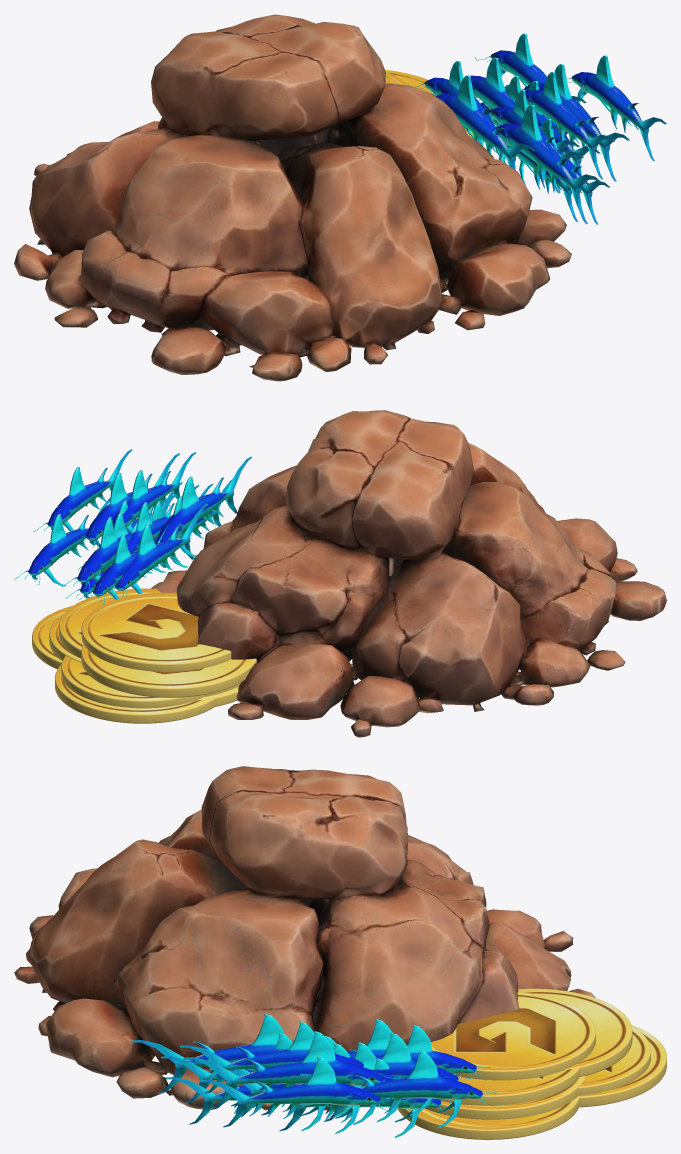
Rendered from CookingRange_INIT.glb.
3 views of the same model, one above another, from view 1: azimuth 30°, elevation 25°; view 2: azimuth 150°, elevation 25°; view 3: azimuth 270°, elevation 25° (orthographic). The views are drawn at different scales.
Visible parts, largest first — view 1: CookingRange_INIT; view 2: CookingRange_INIT; view 3: CookingRange_INIT.
Part boxes in pixels (box(x1,y1,x2,y2)): CookingRange_INIT: box(14, 14, 666, 381); CookingRange_INIT: box(14, 410, 666, 737); CookingRange_INIT: box(14, 766, 666, 1139).
Bounding box in the file's own units: 0.9998 × 0.35 × 0.9503.
4 materials, 3 textured.
